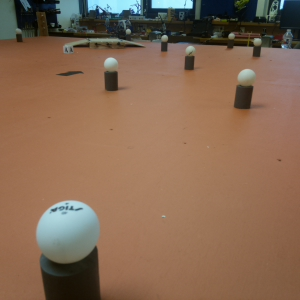obstacle: (34, 197, 109, 300), (230, 68, 258, 114), (100, 55, 122, 93), (179, 44, 198, 69), (250, 38, 264, 60), (223, 32, 237, 51), (159, 35, 170, 53), (13, 28, 25, 43)
side: (91, 40, 121, 49)
slope: (123, 39, 146, 49), (75, 41, 87, 48)
